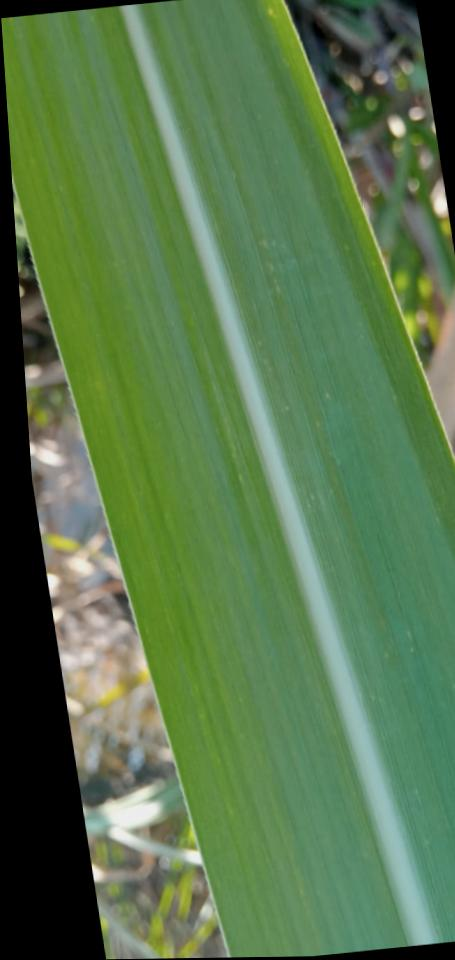Healthy: (1, 0, 455, 958)
